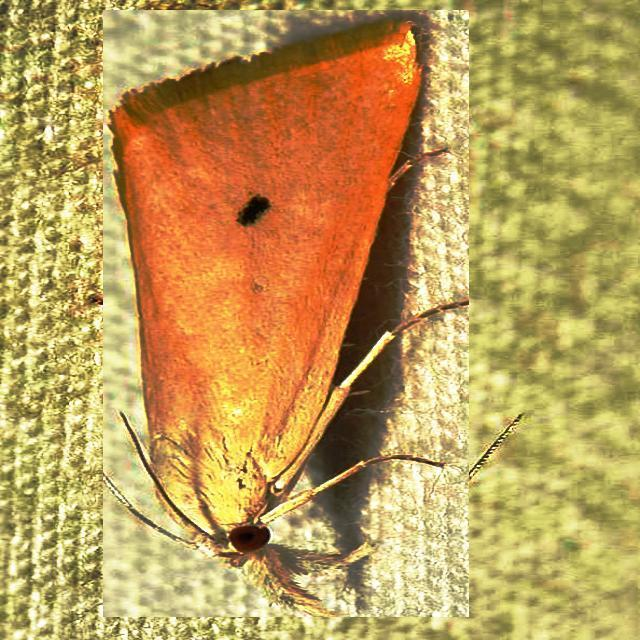stem-borer: (103, 10, 469, 617)
